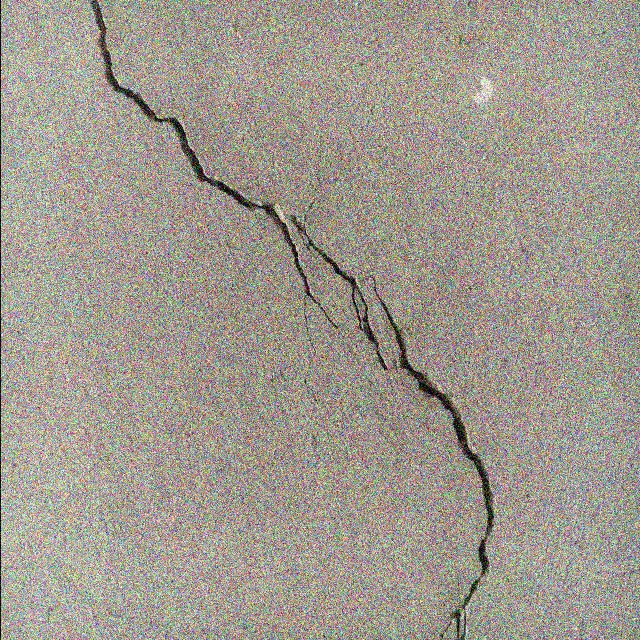SurfaceCrack: (3, 1, 538, 640)
